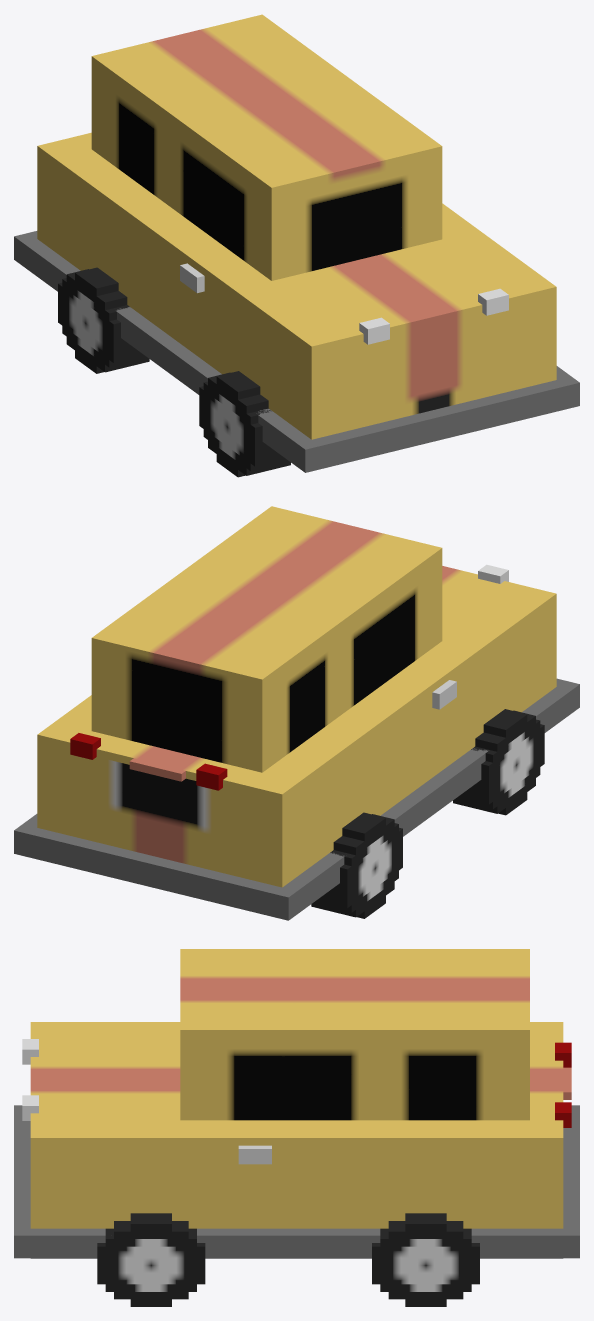
Rendered from car_8.fbx.
3 views of the same model, one above another, from view 1: azimuth 30°, elevation 25°; view 2: azimuth 150°, elevation 25°; view 3: azimuth 270°, elevation 25° (orthographic). The views are drawn at different scales.
Parts seen in each view (by area): view 1: body, back_right_wheel, back_left_wheel; view 2: body, back_right_wheel, back_left_wheel; view 3: body, front_right_wheel, front_left_wheel.
Boxes of the visible parts, x1=… form: body: x1=14, y1=14, x2=579, y2=472; back_right_wheel: x1=199, y1=371, x2=290, y2=477; back_left_wheel: x1=58, y1=267, x2=149, y2=373; body: x1=14, y1=506, x2=579, y2=920; back_right_wheel: x1=453, y1=709, x2=544, y2=815; back_left_wheel: x1=311, y1=812, x2=402, y2=918; body: x1=14, y1=949, x2=579, y2=1258; front_right_wheel: x1=97, y1=1213, x2=205, y2=1306; front_left_wheel: x1=372, y1=1213, x2=479, y2=1306.
Bounding box in the file's own units: 39 × 33 × 68.
Materials: 1 (1 with a texture image).
